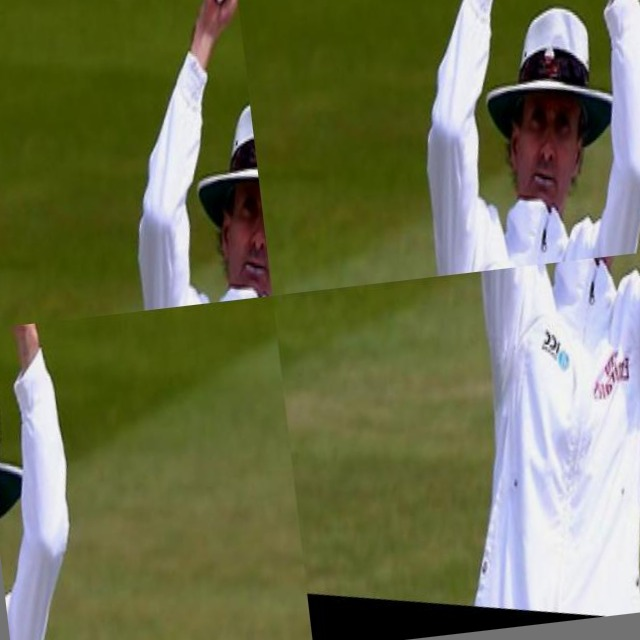No_Ball: (233, 0, 640, 296), (0, 0, 272, 331)
Out: (0, 310, 193, 640)
Six: (395, 249, 640, 636)
